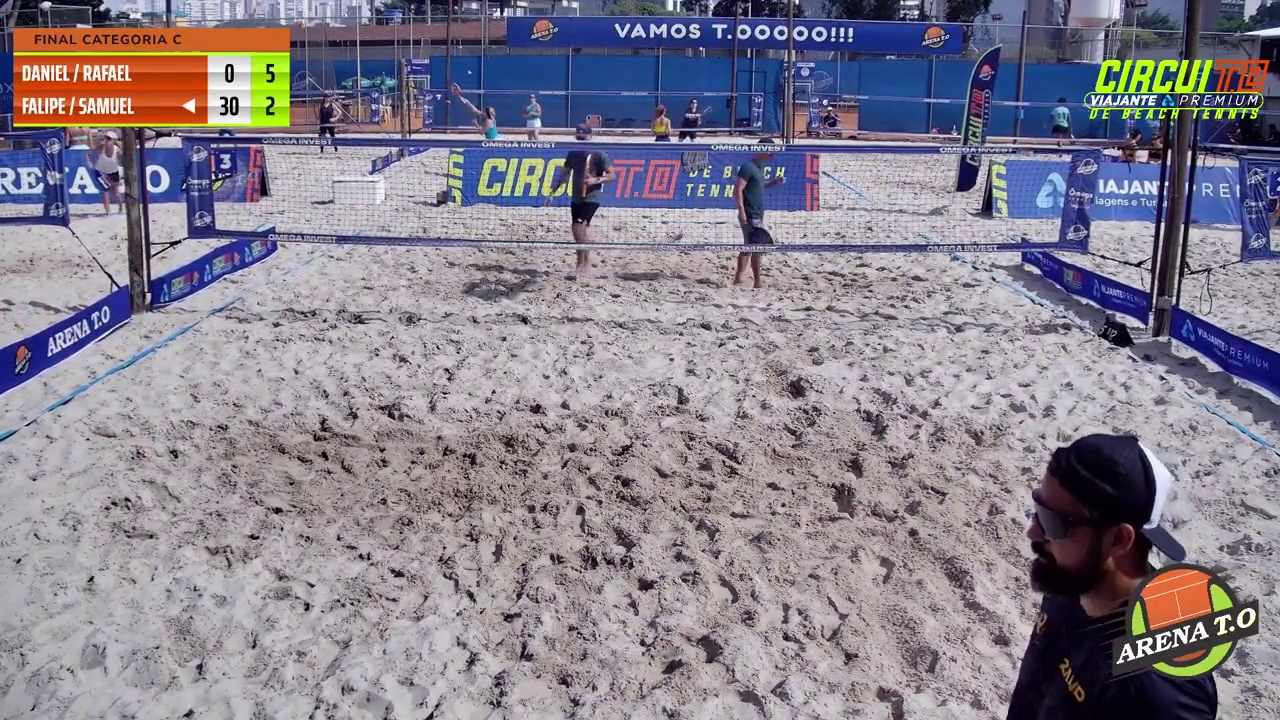court_line: (631, 0, 795, 489)
